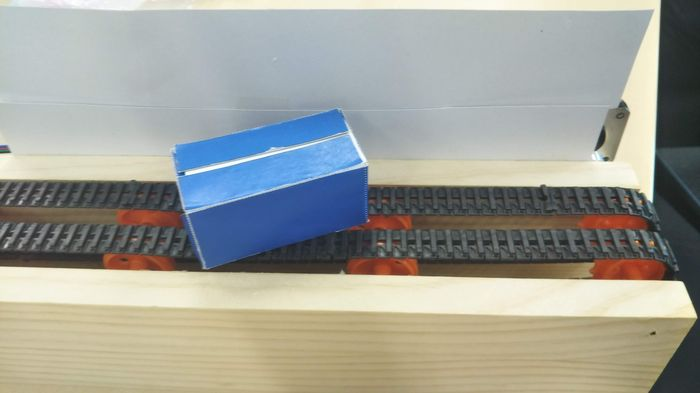box3: (164, 104, 370, 274)
